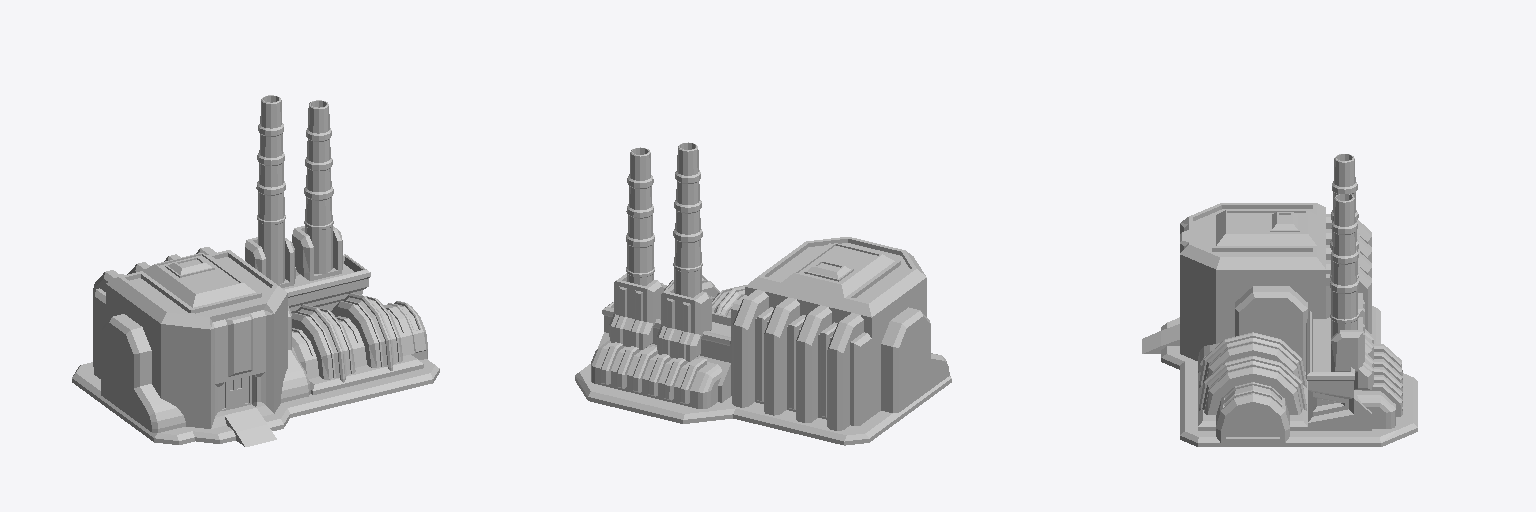
The model's file is CoalPowerStation.obj.
The picture shows the model from 3 angles: view 1: azimuth 30°, elevation 25°; view 2: azimuth 150°, elevation 25°; view 3: azimuth 270°, elevation 25°; orthographic projection.
Parts seen in each view (by area): view 1: CoalPowerStation_Body, CoalPowerStation_Chimneys, CoalPowerStation_Generator, CoalPowerStation_BodySideParts, CoalPowerStation_Foundation, CoalPowerStation_ChimneyBody, CoalPowerStation_GeneratorFoundation, CoalPowerStation_BodyPart; view 2: CoalPowerStation_BodyPart, CoalPowerStation_Chimneys, CoalPowerStation_Body, CoalPowerStation_ChimneyBody, CoalPowerStation_Foundation, CoalPowerStation_BodySideParts, CoalPowerStation_Generator; view 3: CoalPowerStation_Body, CoalPowerStation_Generator, CoalPowerStation_ChimneyBody, CoalPowerStation_Chimneys, CoalPowerStation_Foundation, CoalPowerStation_BodySideParts, CoalPowerStation_BodyPart, CoalPowerStation_GeneratorFoundation.
Part boxes in pixels (x1,y1,x2,y2): CoalPowerStation_Body: (106,250,287,446); CoalPowerStation_Chimneys: (245,95,342,287); CoalPowerStation_Generator: (292,293,427,382); CoalPowerStation_BodySideParts: (101,306,310,432); CoalPowerStation_Foundation: (72,359,439,444); CoalPowerStation_ChimneyBody: (282,254,370,313); CoalPowerStation_GeneratorFoundation: (292,347,423,394); CoalPowerStation_BodyPart: (93,247,216,378); CoalPowerStation_BodyPart: (731,290,871,430); CoalPowerStation_Chimneys: (609,142,711,361); CoalPowerStation_Body: (745,237,926,416); CoalPowerStation_ChimneyBody: (591,302,730,408); CoalPowerStation_Foundation: (575,364,951,445); CoalPowerStation_BodySideParts: (881,307,949,412); CoalPowerStation_Generator: (661,275,745,316); CoalPowerStation_Body: (1142,203,1325,360); CoalPowerStation_Generator: (1199,332,1306,442); CoalPowerStation_ChimneyBody: (1306,311,1402,430); CoalPowerStation_Chimneys: (1330,154,1373,389); CoalPowerStation_Foundation: (1161,306,1417,446); CoalPowerStation_BodySideParts: (1198,286,1307,372); CoalPowerStation_BodyPart: (1326,214,1371,333); CoalPowerStation_GeneratorFoundation: (1198,372,1307,430).
Bounding box in the file's own units: 34.2 × 27.83 × 28.6.